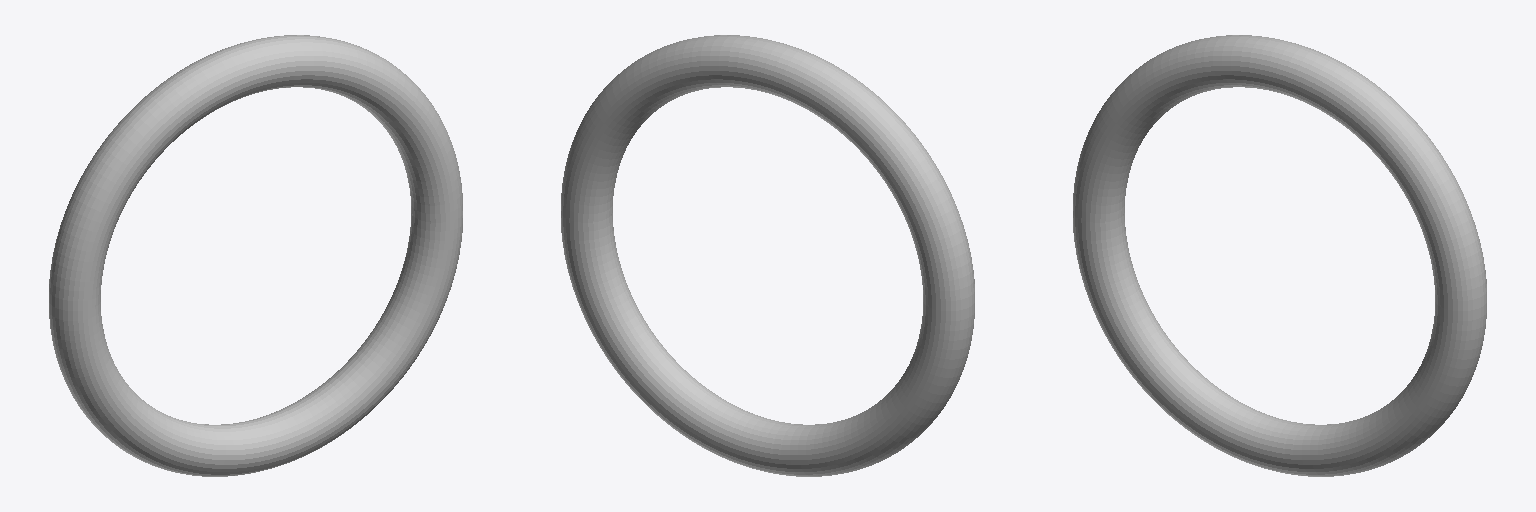
Rendered from toruscontained.obj.
3 renders of one model, left to right at view 1: azimuth 30°, elevation 25°; view 2: azimuth 150°, elevation 25°; view 3: azimuth 330°, elevation 25°, orthographic.
Visible parts, largest first — view 1: Torus.011; view 2: Torus.011; view 3: Torus.011.
Boxes of the visible parts, x1=… form: Torus.011: x1=49, y1=35, x2=462, y2=476; Torus.011: x1=561, y1=35, x2=974, y2=476; Torus.011: x1=1073, y1=35, x2=1486, y2=476.
Size of the model in its own units: 9 by 9 by 1.